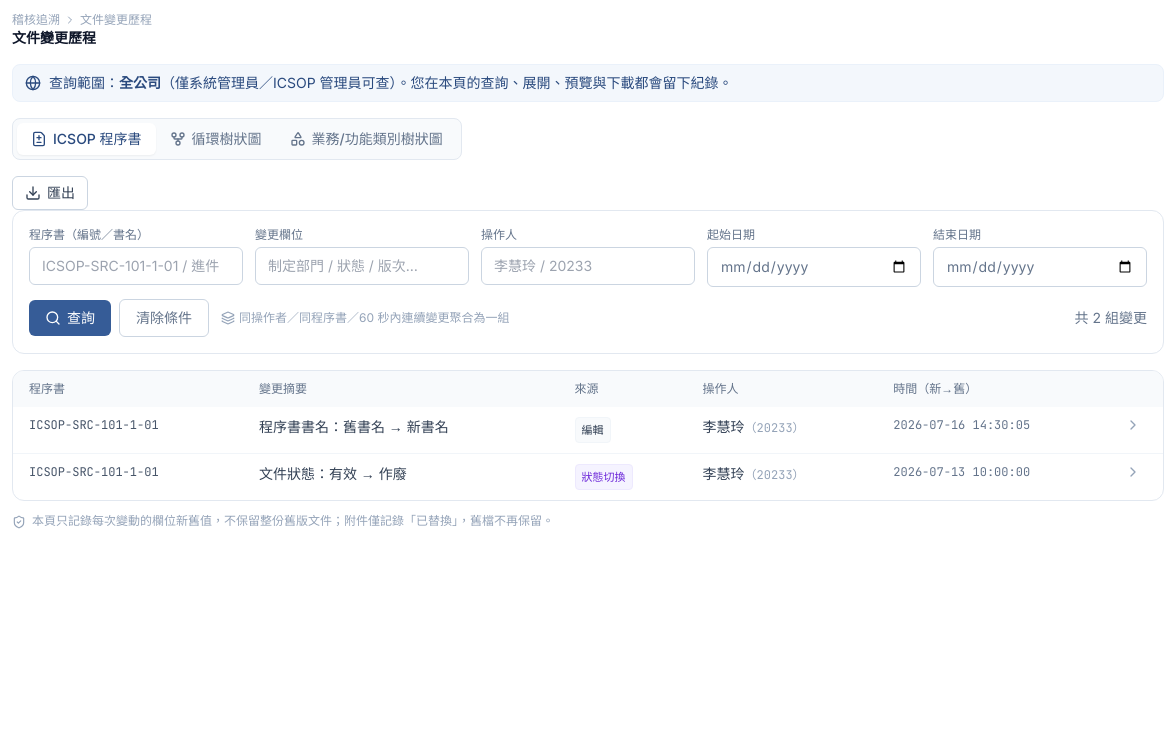
Test: ChangeHistoryPage — F037/F038 › 展開某文件 → 呼叫 viewDocumentChanges（記 CHANGE_LOG_VIEW）並顯示 before/after
The width and height of the screenshot is (1164, 732).
Click the text "程序書書名：舊書名 → 新書名" at (401, 430), box [243,407,558,454]
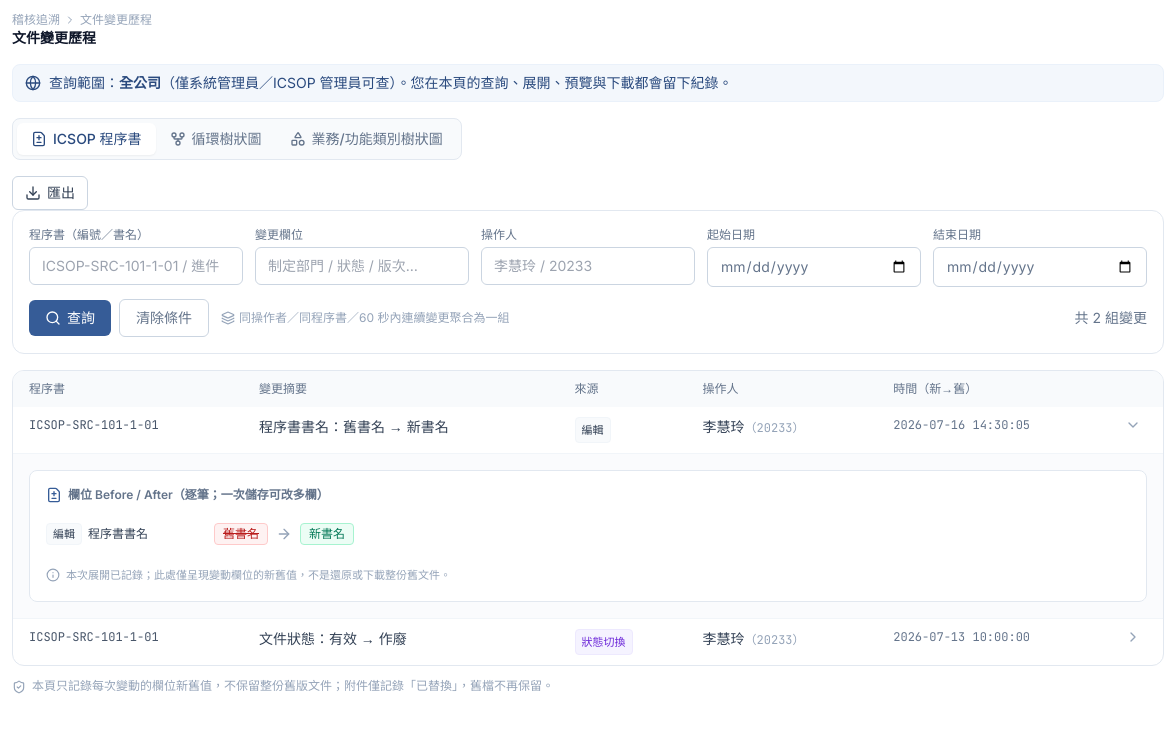
Check: the text "本次展開已記錄；此處僅呈現變動欄位的新舊值，不是還原或下載整份舊文件。" is shown, box [46,568,451,582]
